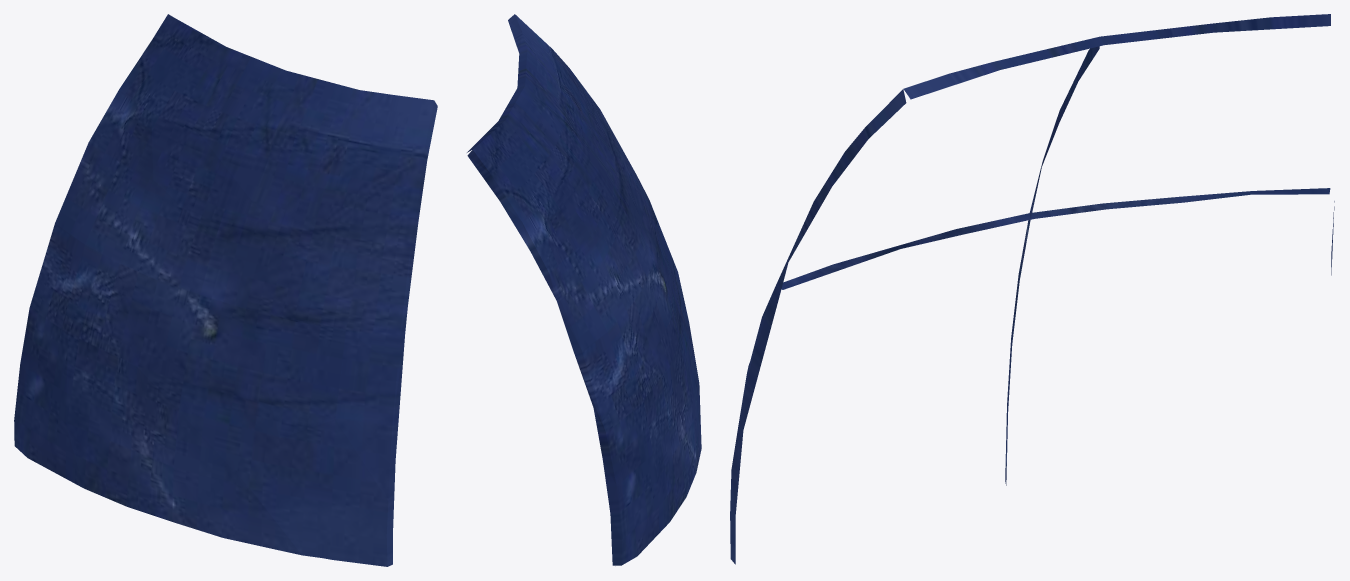
The picture shows the model from 3 angles, left to right: view 1: azimuth 30°, elevation 25°; view 2: azimuth 150°, elevation 25°; view 3: azimuth 270°, elevation 25°; orthographic projection. The views are drawn at different scales.
Size of the model in its own units: 3249176 by 4554604 by 4551006.
1 material, 1 textured.
